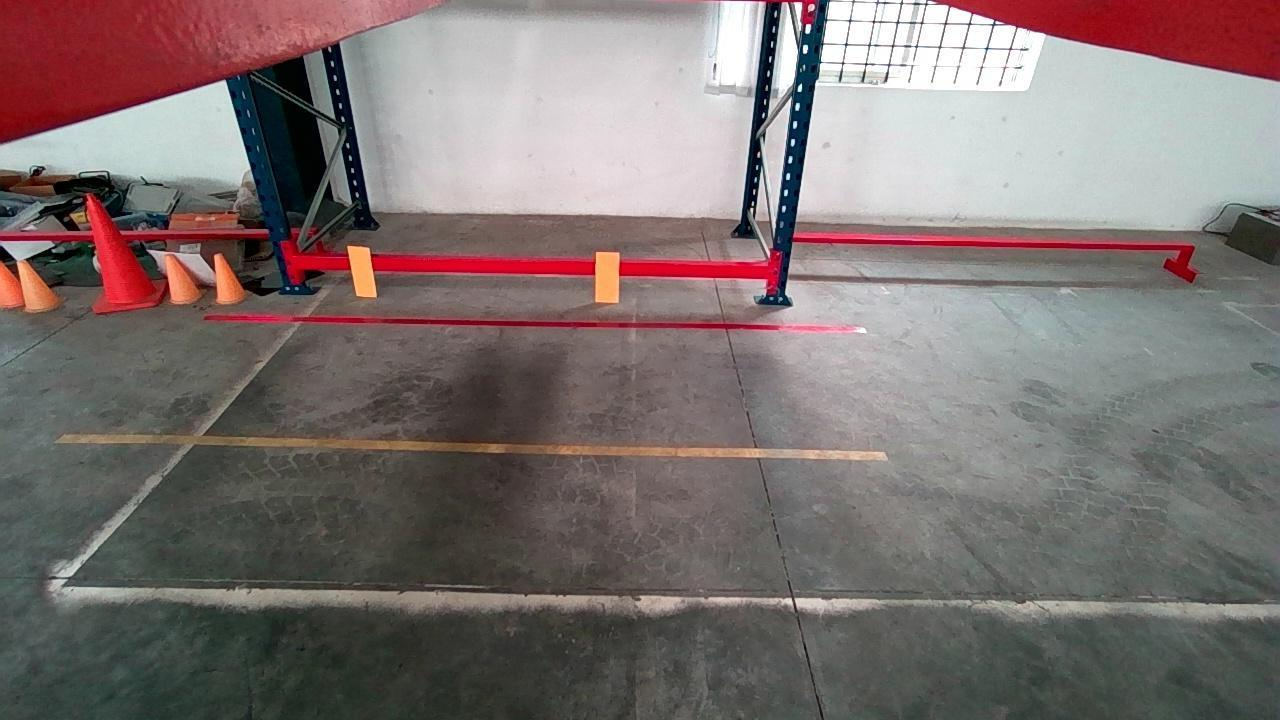h_rack: (295, 253, 772, 276)
orange_strip: (348, 247, 378, 296), (595, 250, 619, 298)
red_line: (202, 312, 869, 334)
yellow_line: (57, 436, 888, 458)
